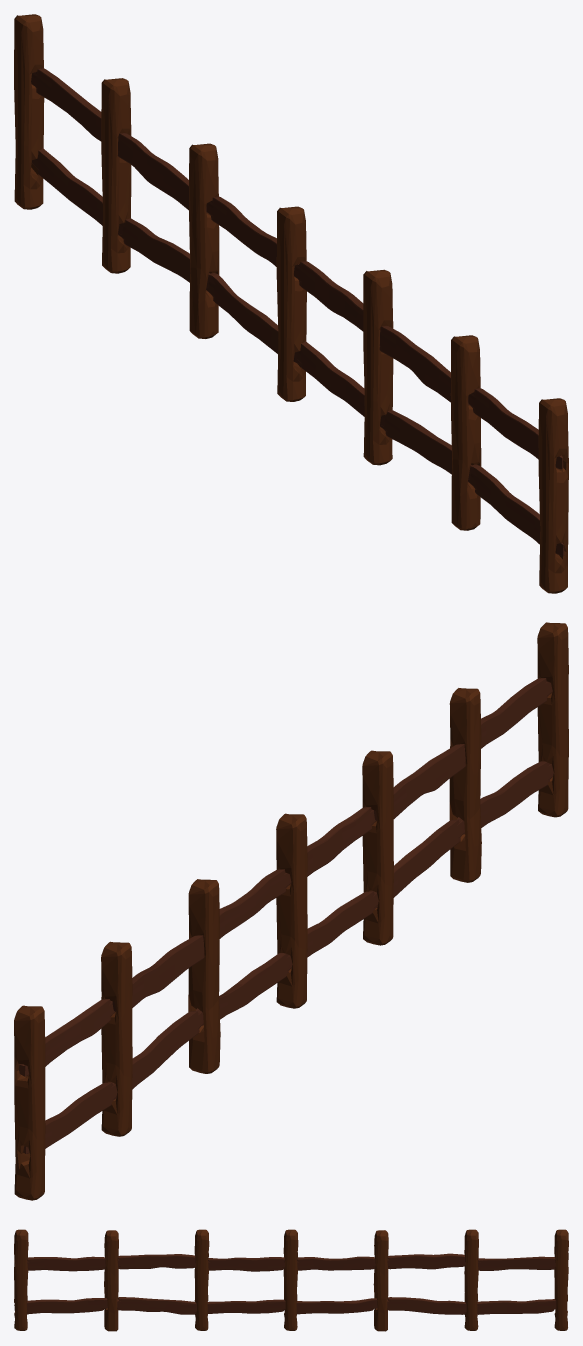
The model's file is wooden fence.glb.
The picture shows the model from 3 angles, top to bottom: view 1: azimuth 30°, elevation 25°; view 2: azimuth 150°, elevation 25°; view 3: azimuth 270°, elevation 25°; orthographic projection. The views are drawn at different scales.
Visible parts, largest first — view 1: Cube.006, Cube.024, Cube.017, Cube.008, Cube.014, Cube.021, Cube.011, Cube.010, Cube.009, Cube.018, Cube.007, Cube.019 (+7 smaller); view 2: Cube.024, Cube.011, Cube.021, Cube.014, Cube.006, Cube.017, Cube.008, Cube.009, Cube.018, Cube.015, Cube.020, Cube.010 (+7 smaller); view 3: Cube.008, Cube.017, Cube.024, Cube.021, Cube.006, Cube.014, Cube.011, Cube.018, Cube.010, Cube.009, Cube.020, Cube.015 (+7 smaller).
Boxes of the visible parts, x1,y1,x2,y2 form: Cube.006: (538,398,568,593); Cube.024: (14,14,44,209); Cube.017: (189,143,219,338); Cube.008: (450,335,481,530); Cube.014: (276,206,306,401); Cube.021: (101,78,131,273); Cube.011: (363,269,393,465); Cube.010: (468,464,564,556); Cube.009: (379,326,468,405); Cube.018: (117,133,206,213); Cube.007: (468,388,563,469); Cube.019: (206,273,300,364); Cube.024: (14,1005,45,1200); Cube.011: (362,750,393,945); Cube.021: (101,941,132,1136); Cube.014: (276,813,307,1008); Cube.006: (537,622,568,817); Cube.017: (188,879,220,1073); Cube.008: (449,688,481,882); Cube.009: (374,744,465,820); Cube.018: (112,935,204,1011); Cube.015: (374,818,464,908); Cube.020: (112,1010,203,1099); Cube.010: (457,761,553,834); Cube.008: (104,1230,118,1331); Cube.017: (373,1230,388,1331); Cube.024: (554,1229,568,1330); Cube.021: (464,1229,478,1330); Cube.006: (14,1229,28,1330); Cube.014: (283,1229,298,1330); Cube.011: (194,1229,209,1330); Cube.018: (387,1253,465,1269); Cube.010: (14,1298,107,1314); Cube.009: (117,1254,195,1269); Cube.020: (387,1297,466,1314); Cube.015: (117,1297,196,1314).
Bounding box in the file's own units: 2.11 × 15.15 × 77.27.
